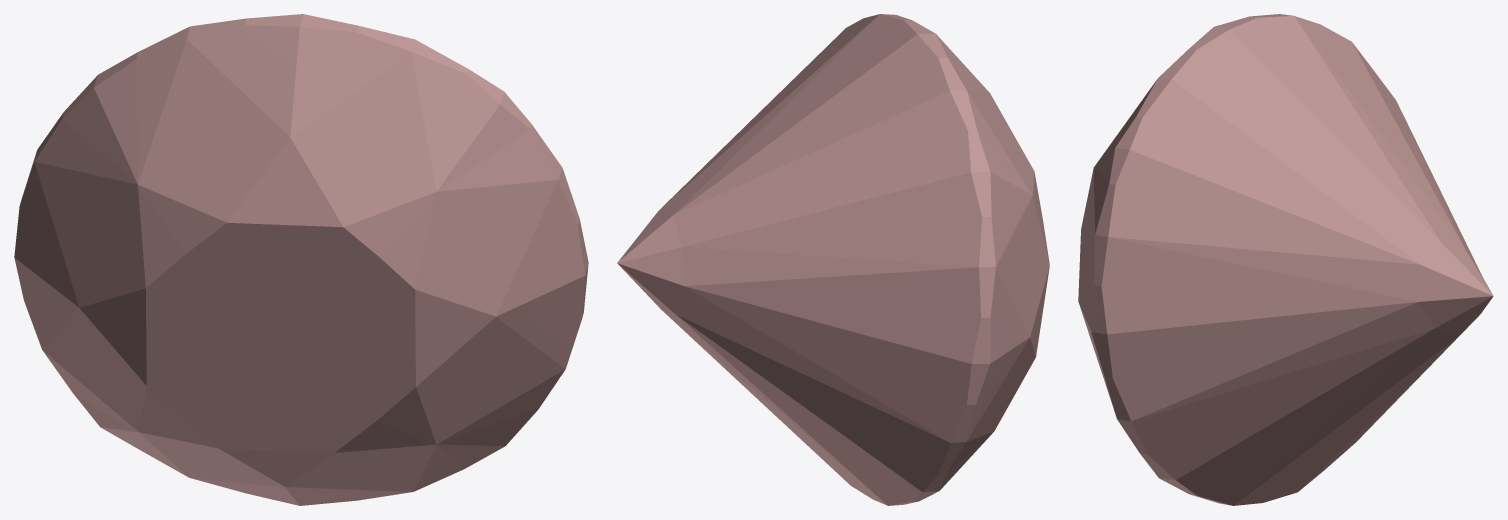
File: BL3_8shapes_Round_Classic_Stone.001 2.glb
3 views of the same model, side by side, from view 1: azimuth 30°, elevation 25°; view 2: azimuth 150°, elevation 25°; view 3: azimuth 270°, elevation 25° (orthographic). The views are drawn at different scales.
Visible parts, largest first — view 1: BL3_8shapes_Round_Classic_Stone.001; view 2: BL3_8shapes_Round_Classic_Stone.001; view 3: BL3_8shapes_Round_Classic_Stone.001.
Part boxes in pixels (bbox=[...]): BL3_8shapes_Round_Classic_Stone.001: bbox=[14, 14, 588, 505]; BL3_8shapes_Round_Classic_Stone.001: bbox=[617, 14, 1049, 505]; BL3_8shapes_Round_Classic_Stone.001: bbox=[1078, 14, 1493, 505].
Bounding box in the file's own units: 0.4121 × 0.5101 × 0.4275.
